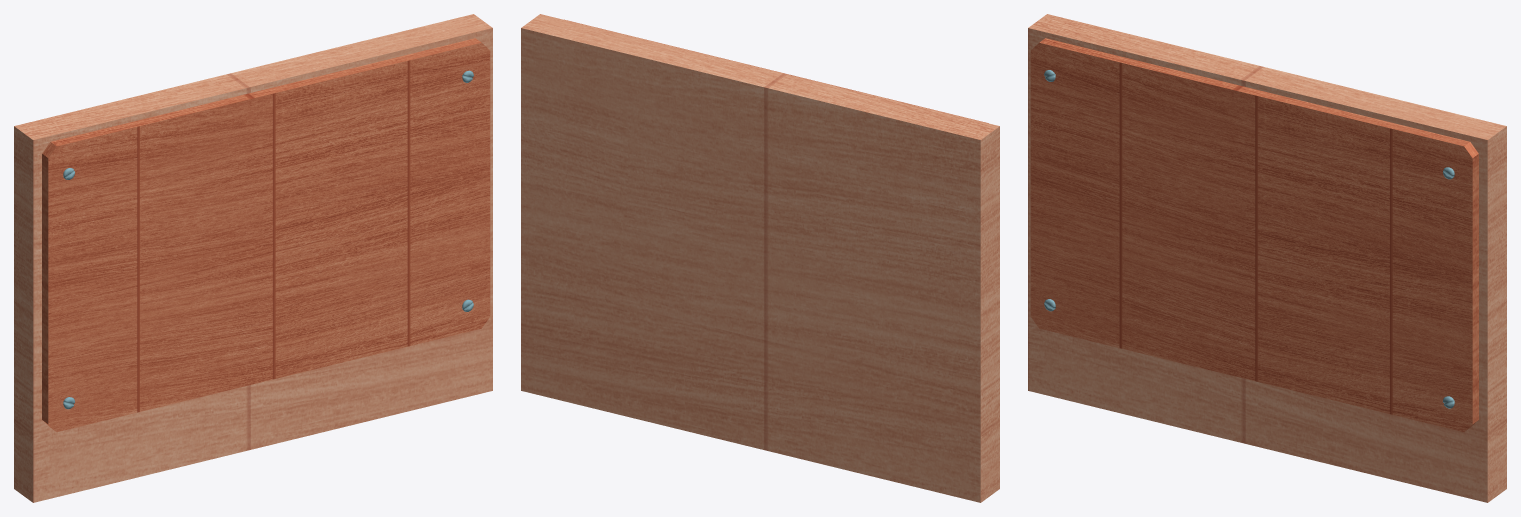
Rendered from SM_stand_wall.fbx.
3 renders of one model, left to right at view 1: azimuth 30°, elevation 25°; view 2: azimuth 150°, elevation 25°; view 3: azimuth 330°, elevation 25°, orthographic.
Visible parts, largest first — view 1: Cube.001; view 2: Cube.001; view 3: Cube.001.
Boxes of the visible parts, x1,y1,x2,y2 form: Cube.001: [14, 14, 492, 502]; Cube.001: [521, 14, 999, 502]; Cube.001: [1028, 14, 1506, 502].
Size of the model in its own units: 1429 by 1078 by 148.
